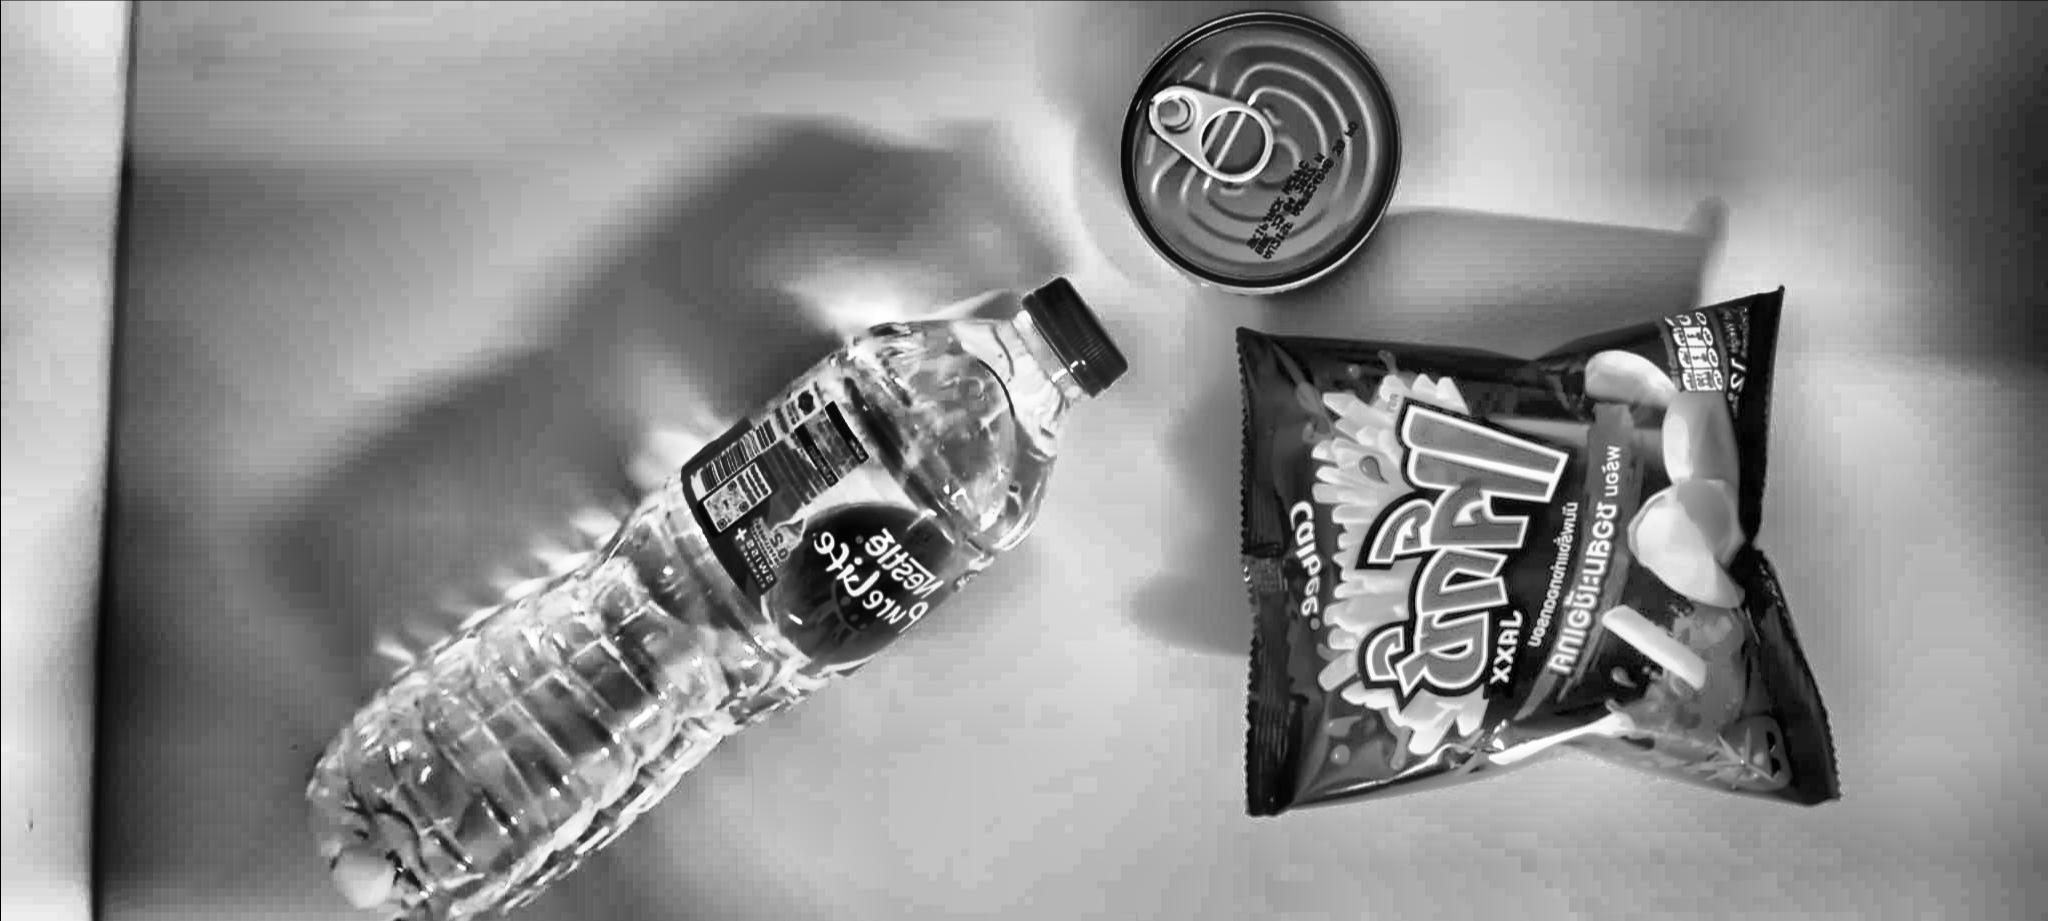can: (1110, 9, 1412, 304)
snackbag: (1212, 278, 1844, 840)
waterbottle: (270, 268, 1144, 921)
